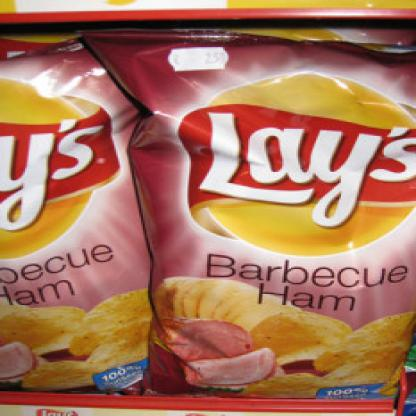potatochip: (63, 14, 414, 414), (0, 18, 167, 402)
